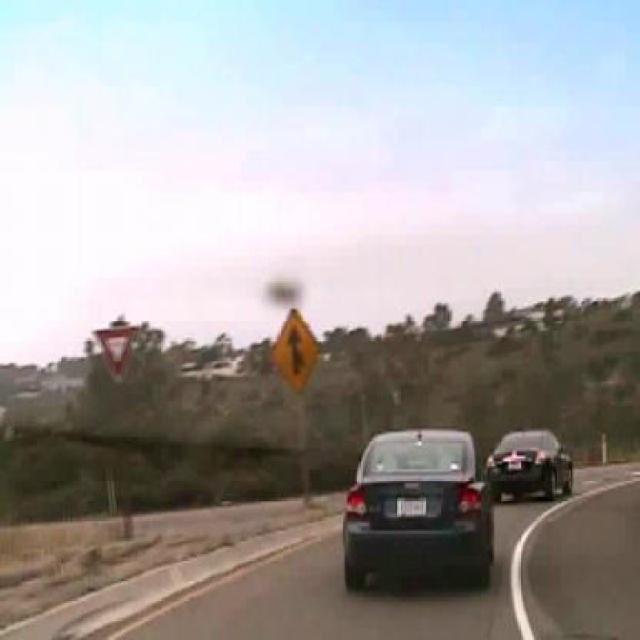merge: (270, 306, 322, 392)
yield: (91, 325, 139, 383)
